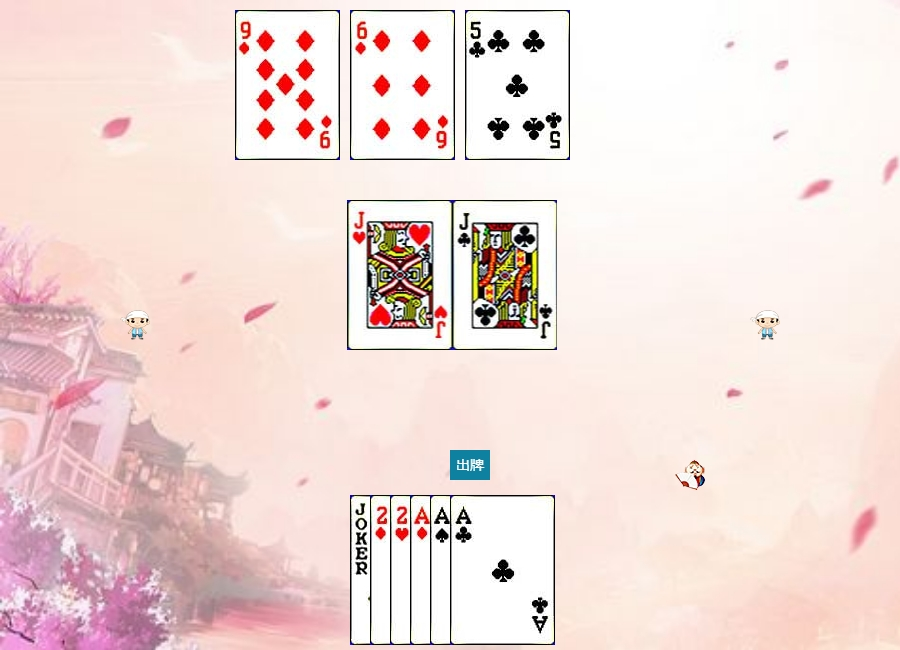11~2: (453, 200, 558, 350)
11~3: (348, 200, 453, 350)
14~1: (410, 495, 515, 645)
14~2: (450, 495, 555, 645)
14~4: (430, 495, 535, 645)
15~1: (370, 495, 475, 645)
15~3: (390, 495, 495, 645)
17~3: (350, 495, 455, 645)
5~2: (465, 10, 570, 160)
6~1: (350, 10, 455, 160)
9~1: (235, 10, 340, 160)
